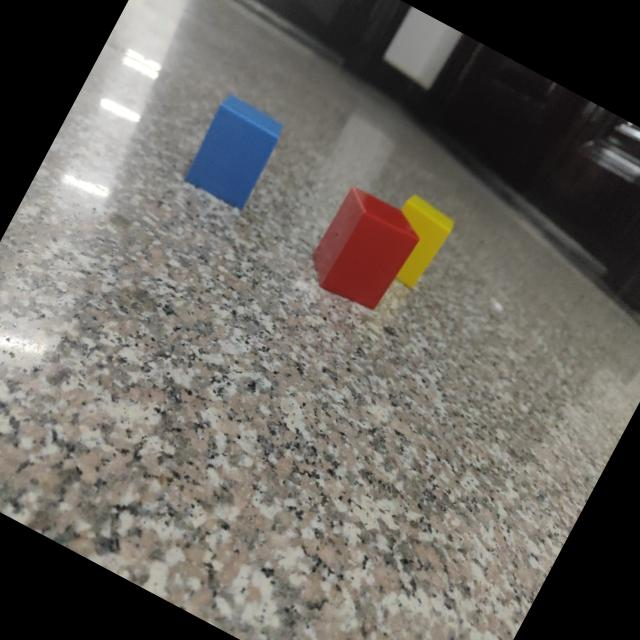blue: (181, 95, 282, 211)
red: (310, 188, 418, 311)
yellow: (396, 197, 453, 290)
